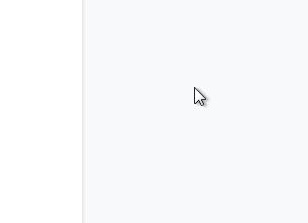cursor: (192, 85, 208, 107)
